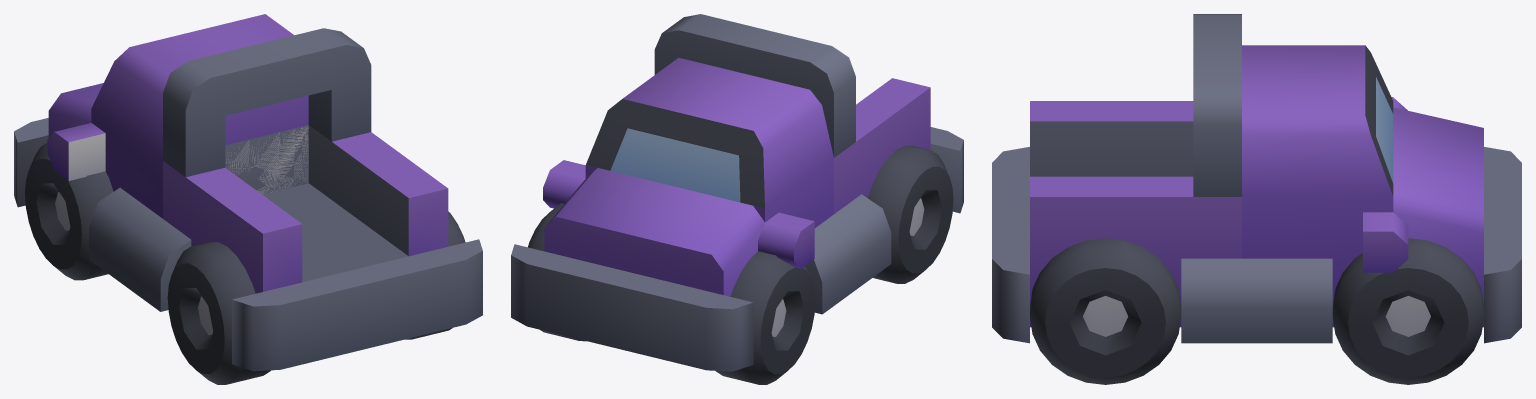
File: vehicle-suv.glb
The picture shows the model from 3 angles, left to right: view 1: azimuth 30°, elevation 25°; view 2: azimuth 150°, elevation 25°; view 3: azimuth 270°, elevation 25°; orthographic projection. The views are drawn at different scales.
Visible parts, largest first — view 1: vehicle-suv, wheel-bl, wheel-fl, wheel-br; view 2: vehicle-suv, wheel-bl, wheel-fl, wheel-fr; view 3: vehicle-suv, wheel-br, wheel-fr.
Part boxes in pixels (x1,y1,x2,y2): vehicle-suv: (14, 14, 482, 371); wheel-bl: (167, 242, 270, 384); wheel-fl: (25, 143, 113, 280); wheel-br: (405, 211, 465, 339); vehicle-suv: (511, 14, 963, 371); wheel-bl: (868, 145, 953, 283); wheel-fl: (716, 251, 815, 384); wheel-fr: (528, 203, 586, 341); vehicle-suv: (992, 14, 1521, 343); wheel-br: (1030, 238, 1181, 384); wheel-fr: (1332, 238, 1483, 384).
Size of the model in its own units: 0.525 by 0.505 by 0.875.
